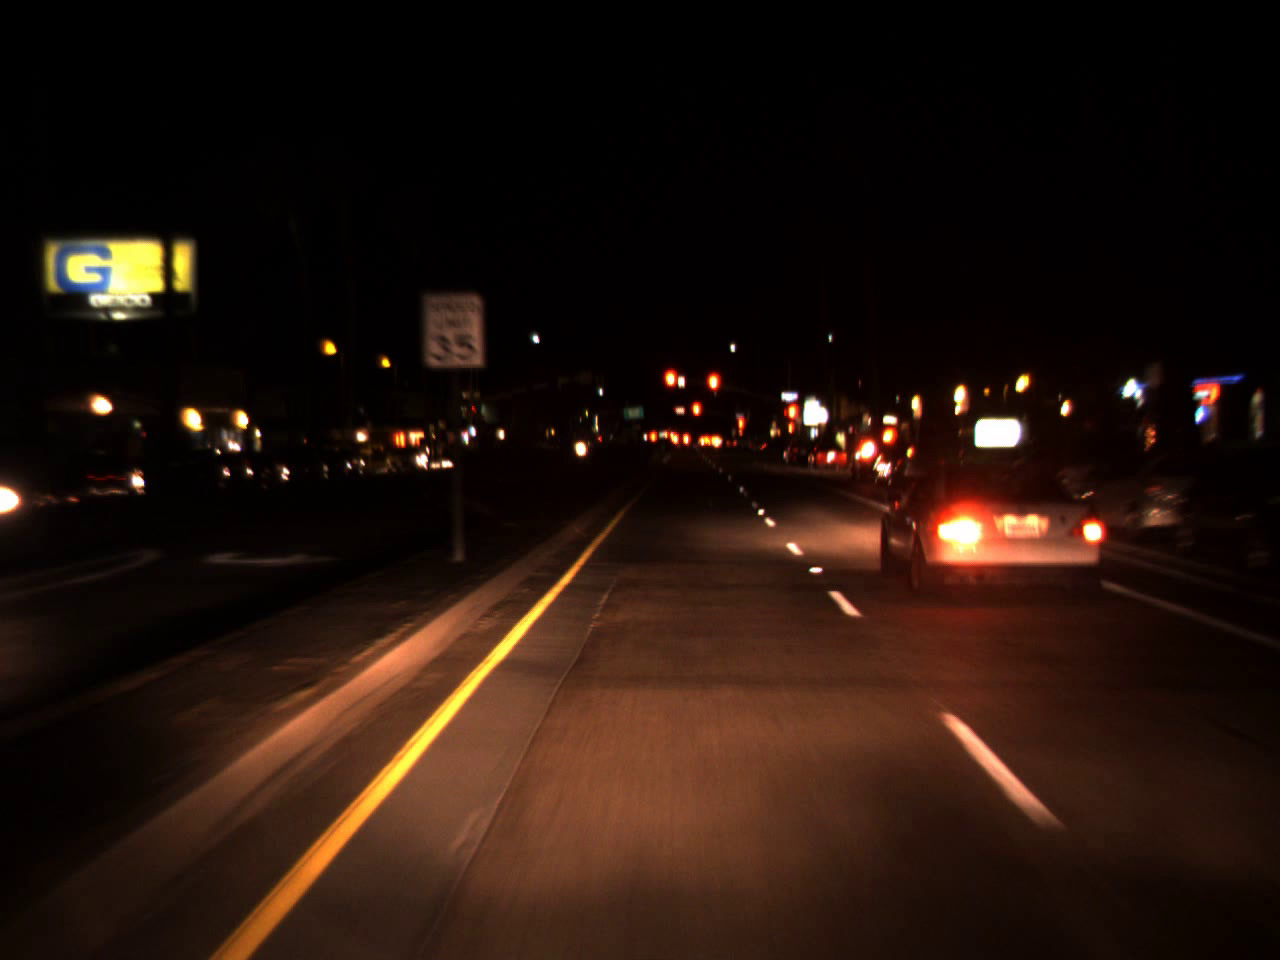stop: (705, 370, 723, 413), (785, 400, 800, 443), (691, 399, 703, 434), (664, 371, 676, 398), (734, 418, 746, 439)
